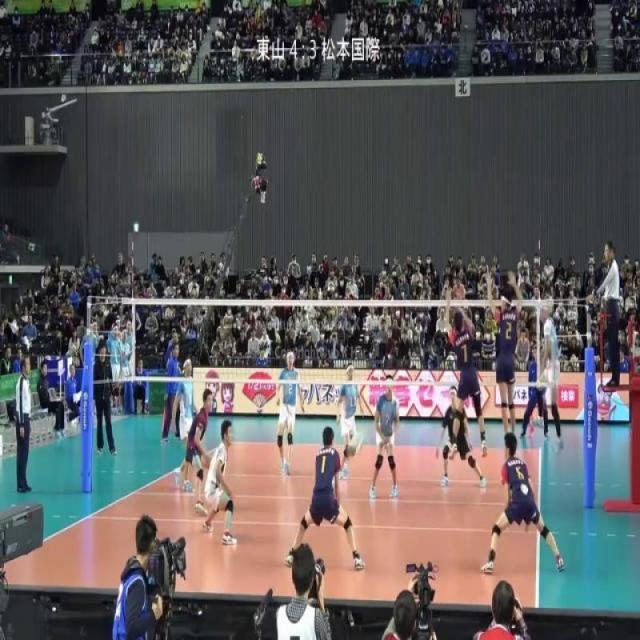volleyball: (347, 431, 364, 459)
